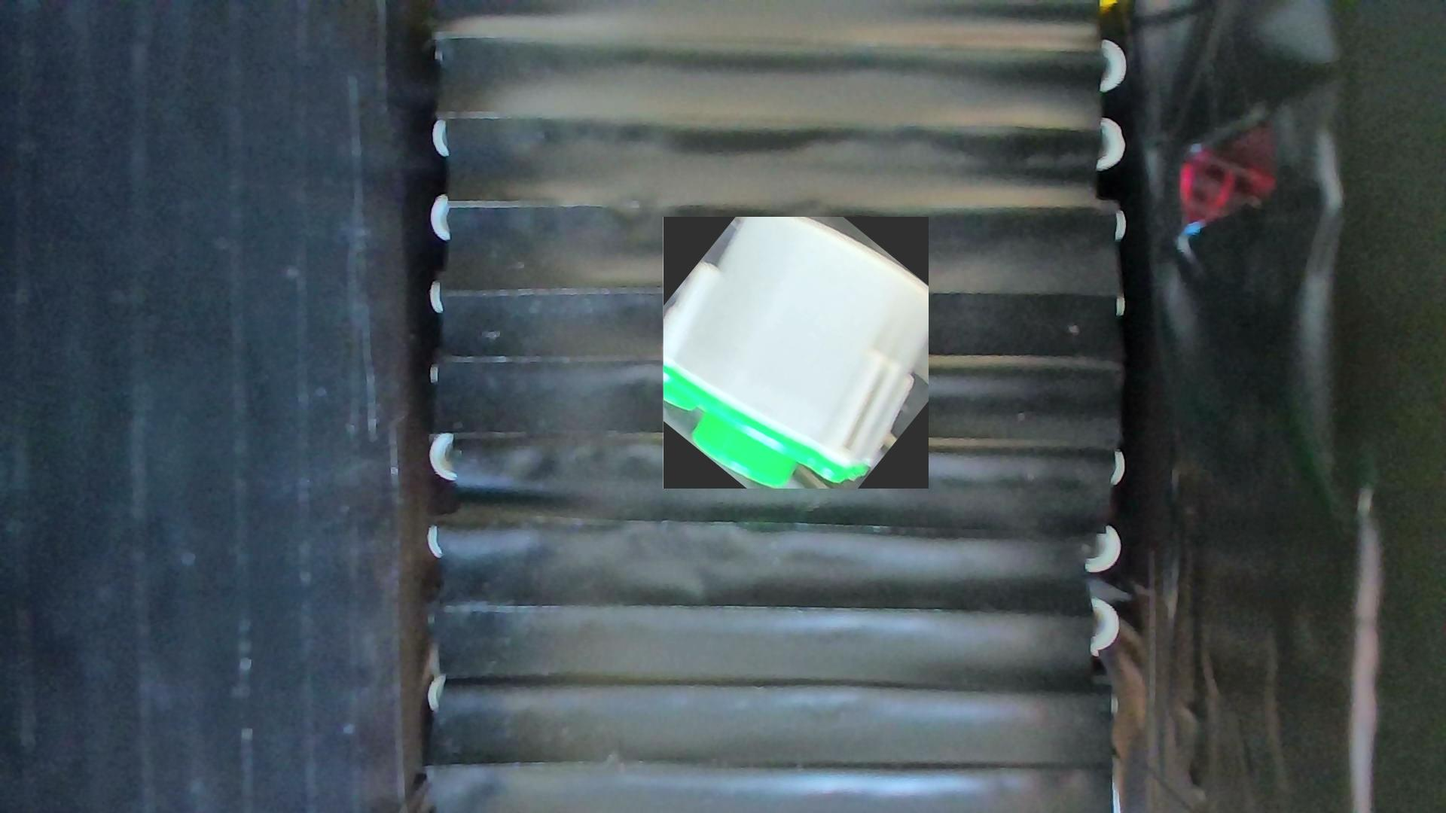cartridge: (662, 217, 928, 489)
